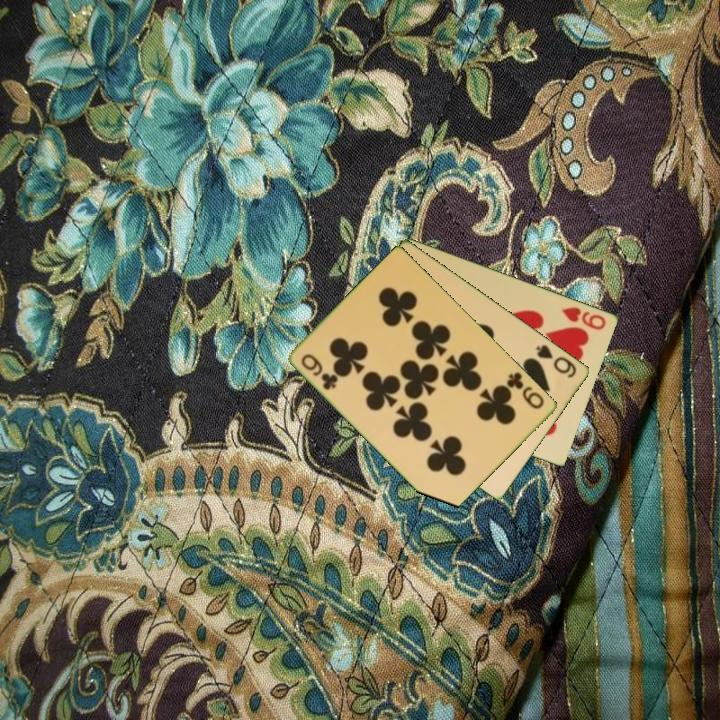6s: (533, 341, 580, 381)
9c: (503, 368, 547, 412), (298, 350, 341, 393)
9h: (558, 303, 609, 333)
